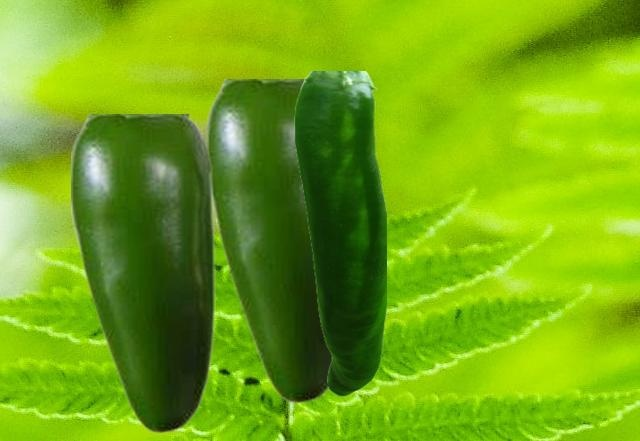green_chili: (71, 114, 214, 433), (207, 79, 330, 403), (294, 71, 385, 395)
